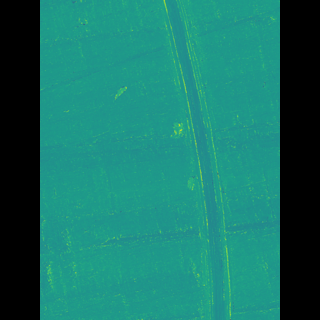Loch: (154, 0, 216, 320)
